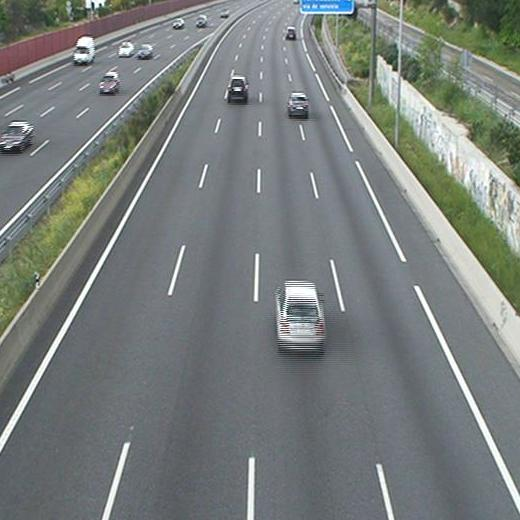car: (274, 280, 328, 357), (286, 92, 310, 120), (226, 76, 249, 105), (285, 26, 296, 40)
